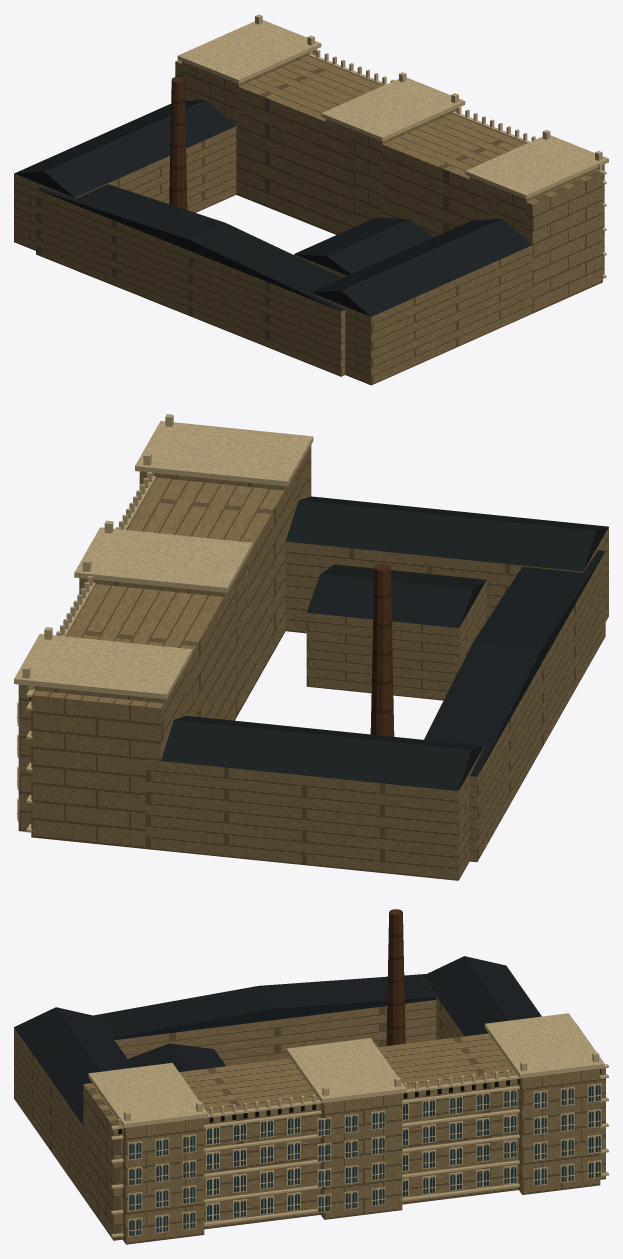
3 renders of one model, top to bottom at view 1: azimuth 30°, elevation 25°; view 2: azimuth 150°, elevation 25°; view 3: azimuth 270°, elevation 25°, orthographic. The views are drawn at different scales.
Visible parts, largest first — view 1: coolsingelziekenhuis-0, coolsingelziekenhuis-4, coolsingelziekenhuis-1, coolsingelziekenhuis-5; view 2: coolsingelziekenhuis-0, coolsingelziekenhuis-4, coolsingelziekenhuis-1, coolsingelziekenhuis-5; view 3: coolsingelziekenhuis-0, coolsingelziekenhuis-1, coolsingelziekenhuis-4, coolsingelziekenhuis-2, coolsingelziekenhuis-5, coolsingelziekenhuis-3.
Part boxes in pixels (x1,y1,x2,y2): coolsingelziekenhuis-0: [14, 49, 604, 385]; coolsingelziekenhuis-4: [14, 100, 532, 316]; coolsingelziekenhuis-1: [177, 14, 608, 278]; coolsingelziekenhuis-5: [169, 76, 187, 209]; coolsingelziekenhuis-0: [18, 445, 608, 880]; coolsingelziekenhuis-4: [161, 496, 608, 790]; coolsingelziekenhuis-1: [14, 414, 313, 832]; coolsingelziekenhuis-5: [370, 563, 394, 736]; coolsingelziekenhuis-0: [14, 976, 605, 1244]; coolsingelziekenhuis-1: [88, 1013, 608, 1237]; coolsingelziekenhuis-4: [14, 956, 541, 1125]; coolsingelziekenhuis-2: [129, 1085, 600, 1235]; coolsingelziekenhuis-5: [386, 909, 405, 1045]; coolsingelziekenhuis-3: [118, 1068, 601, 1134].
Size of the model in its own units: 79.1 by 32 by 95.02.
Materials: 6 (6 with a texture image).
